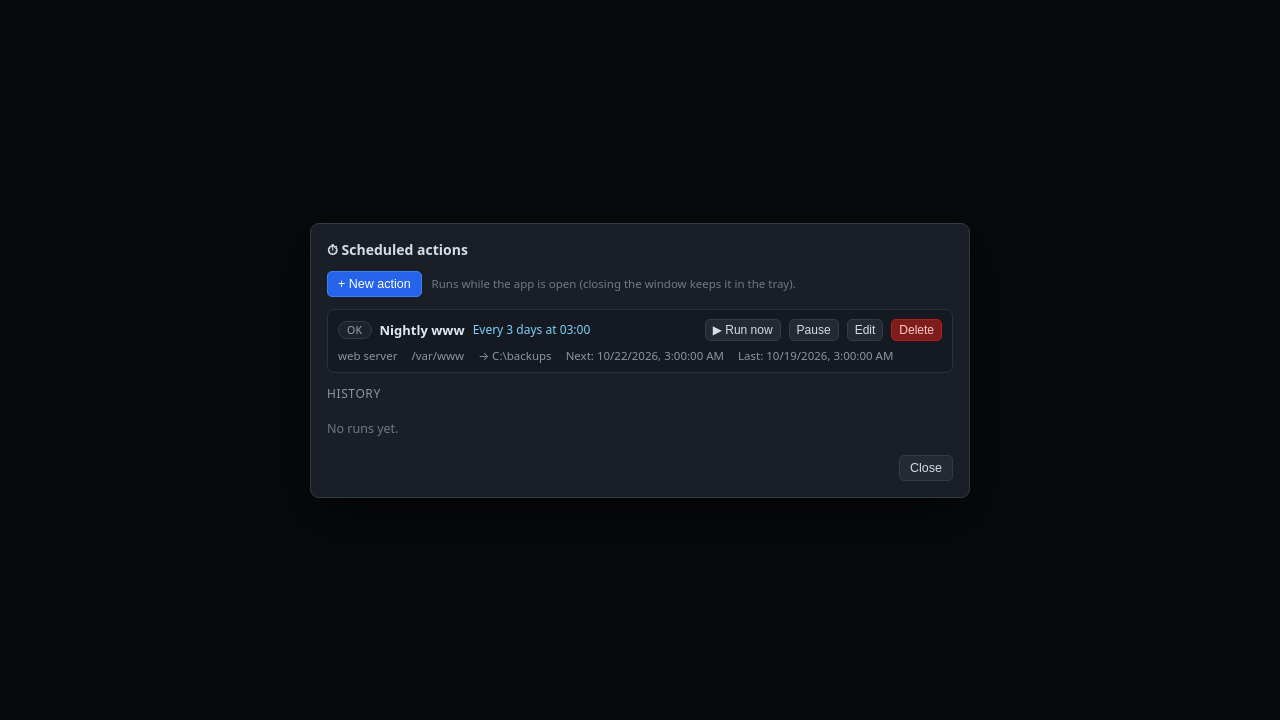
Test: actions dialog › opens the editor for a new action
This screenshot has width=1280, height=720.
Expected: the text "Nightly www" is shown, [380,320,465,338]
Click the button "+ New action" at (374, 284), box [327,270,422,296]
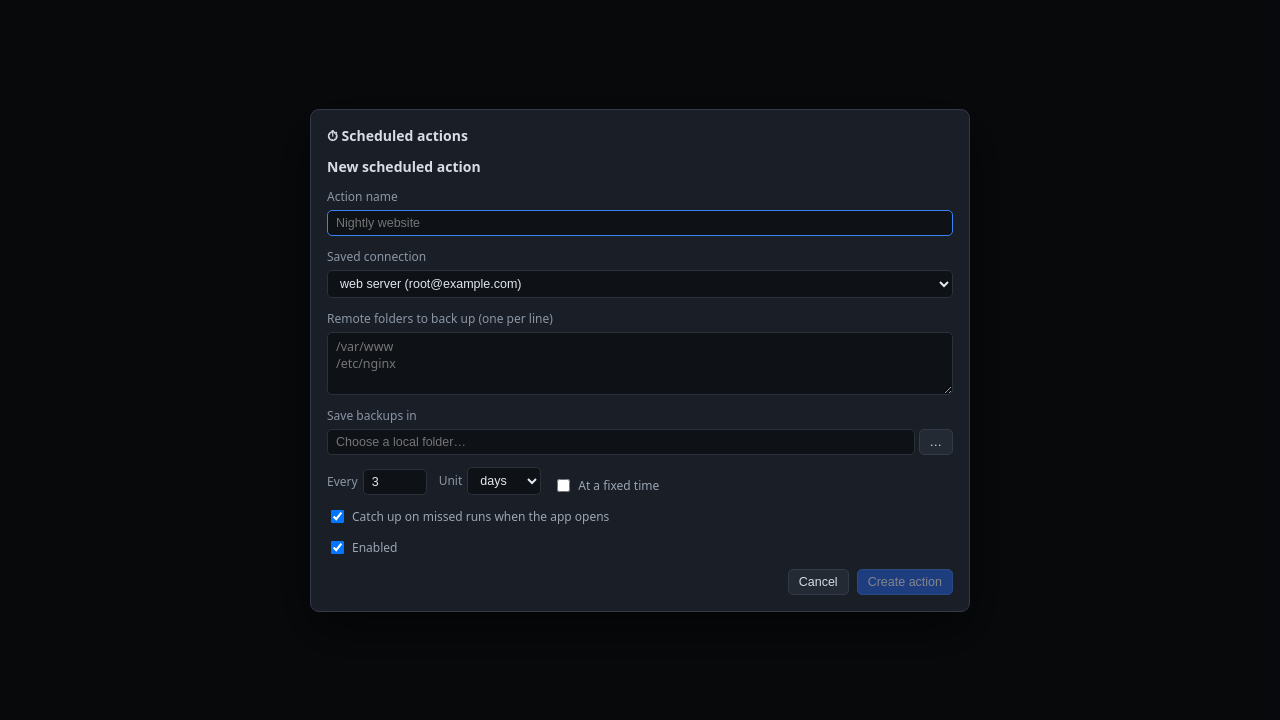
Result: the text "New scheduled action" is shown at [327,156,481,176]
Result: the text box labelled "Remote folders to back up (one per line)" is shown at [327,332,953,394]
Result: the field labelled "Action name" is shown at [327,210,953,236]
